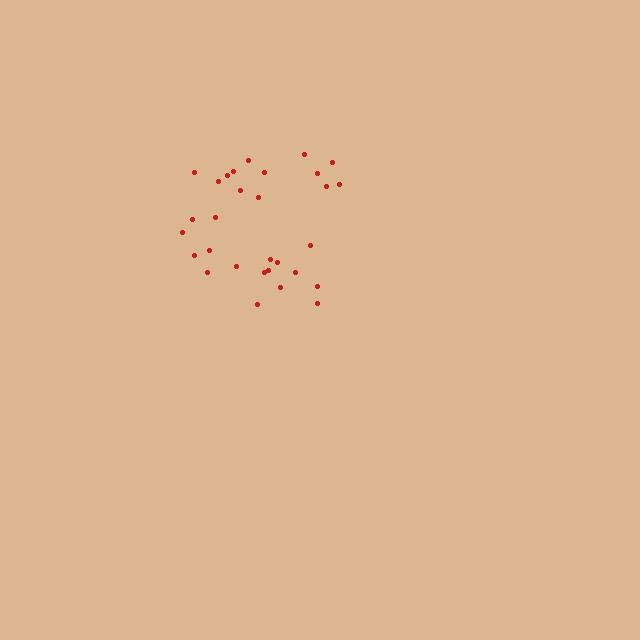abrasion: (176, 140, 347, 310)
